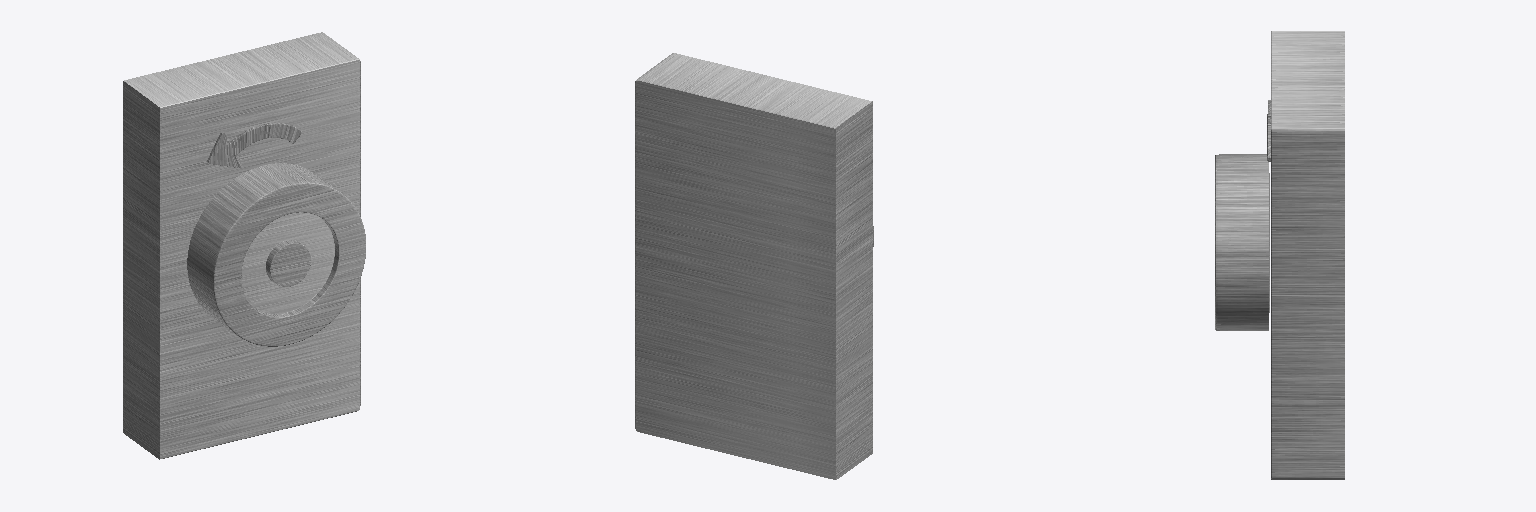
3 views of the same model, side by side, from view 1: azimuth 30°, elevation 25°; view 2: azimuth 150°, elevation 25°; view 3: azimuth 270°, elevation 25° (orthographic).
Visible parts, largest first — view 1: Cube; view 2: Cube; view 3: Cube.
Part boxes in pixels (x1,y1,x2,y2): Cube: (123,32,365,459); Cube: (635,53,873,479); Cube: (1215,31,1344,479).
Bounding box in the file's own units: 1.53 × 2.56 × 0.8604.
Materials: 1 (1 with a texture image).